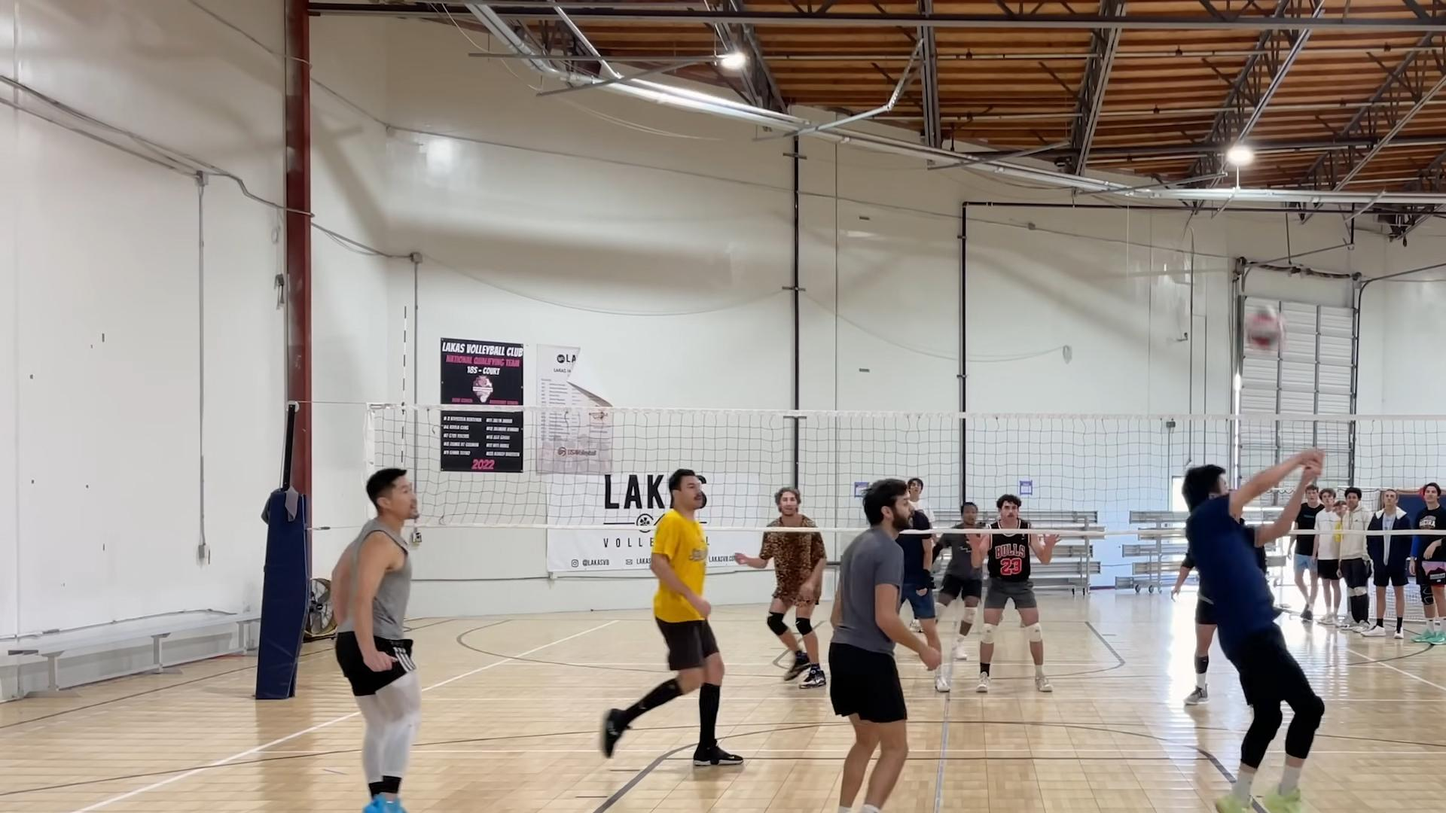Player: (601, 469, 743, 766), (829, 480, 940, 812), (331, 469, 420, 812), (970, 495, 1059, 693), (735, 531, 825, 688), (897, 498, 941, 648), (938, 534, 982, 659), (1185, 575, 1216, 705), (907, 477, 934, 525)
Receive: (1163, 444, 1381, 813)
ball: (1243, 305, 1284, 351)
